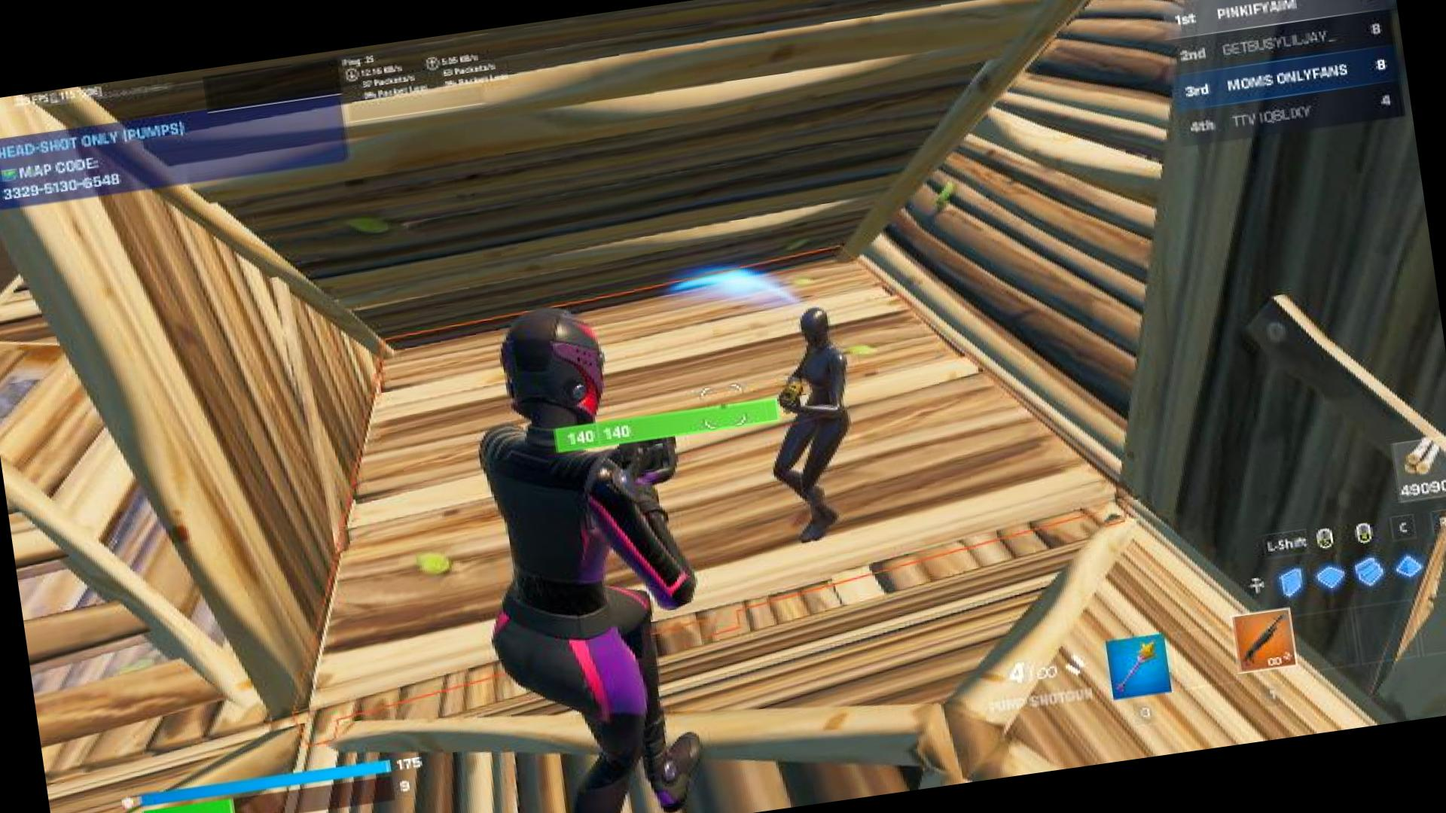player: (749, 295, 884, 551)
